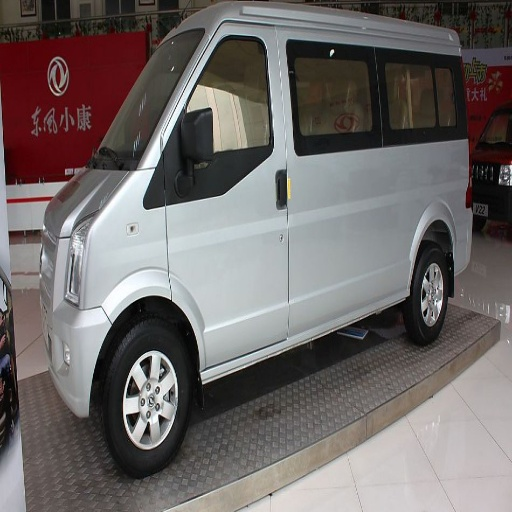front_glass: (92, 30, 204, 168)
trunk: (312, 148, 470, 267), (64, 324, 104, 367)
